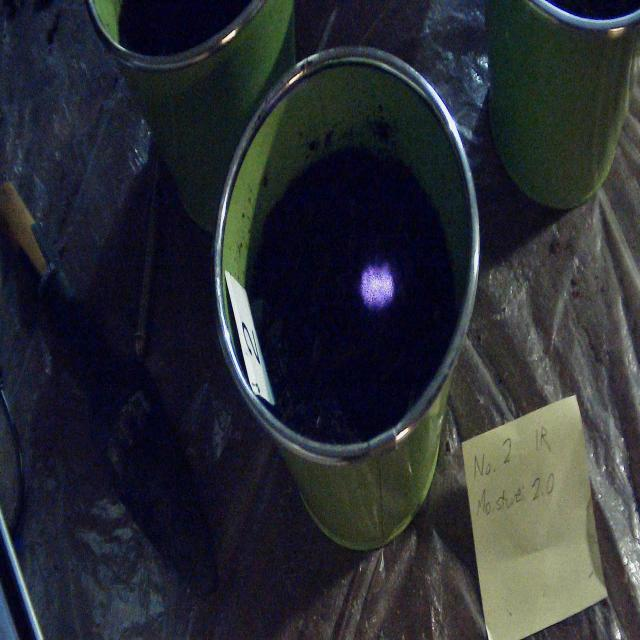soil-moisture-2.0: (360, 262, 396, 310)
